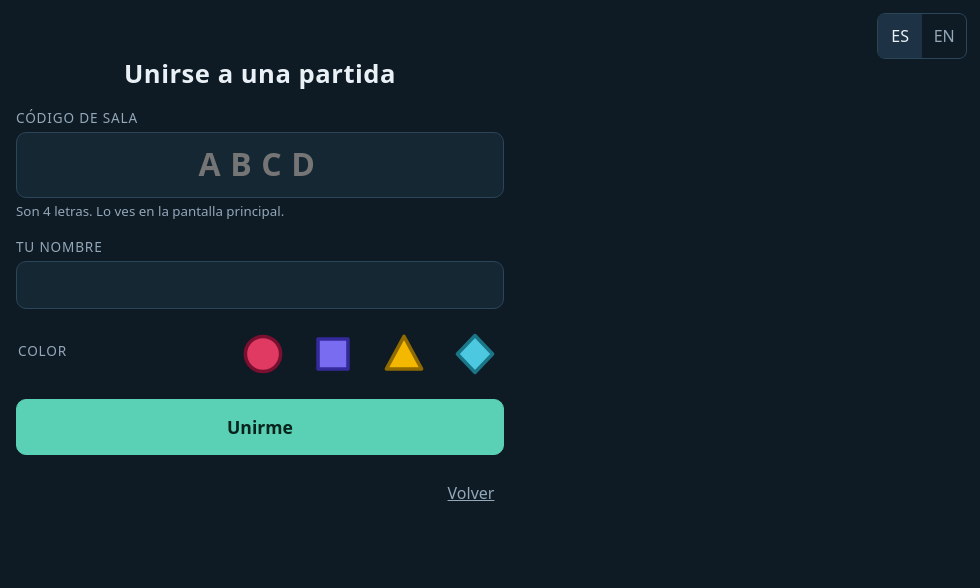
Test: unirse y sala de espera desde el móvil › valida el código y el nombre antes de enviar, y traduce los errores del servidor
The width and height of the screenshot is (980, 588).
Click the button "Unirme" at [260, 427], box top-left (16, 399), bottom-right (504, 455)
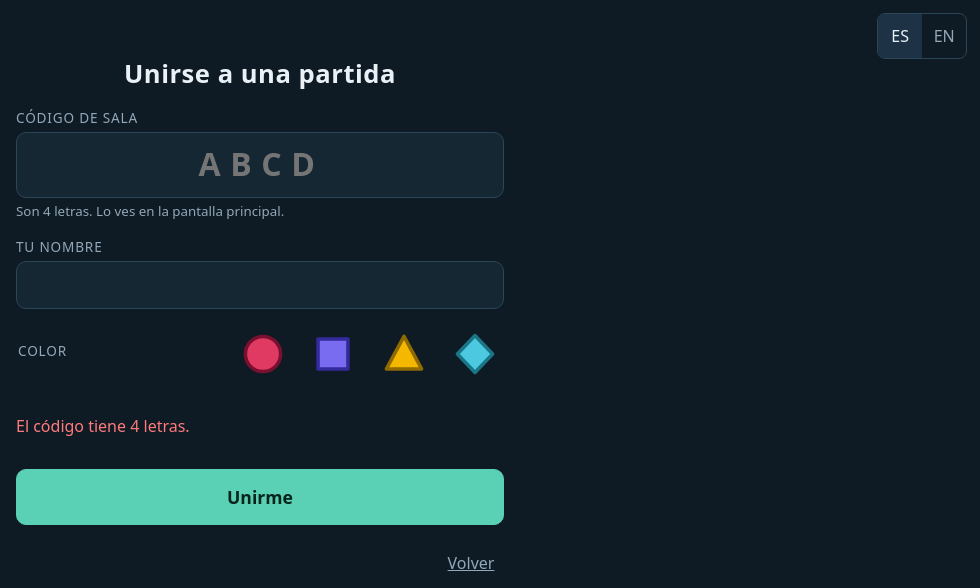
expect the message reads "El código tiene 4 letras.": met, box top-left (16, 415), bottom-right (190, 437)
Type "ab1c-d" into the field labelled "Código de sala" at [260, 165], box top-left (16, 132), bottom-right (504, 198)
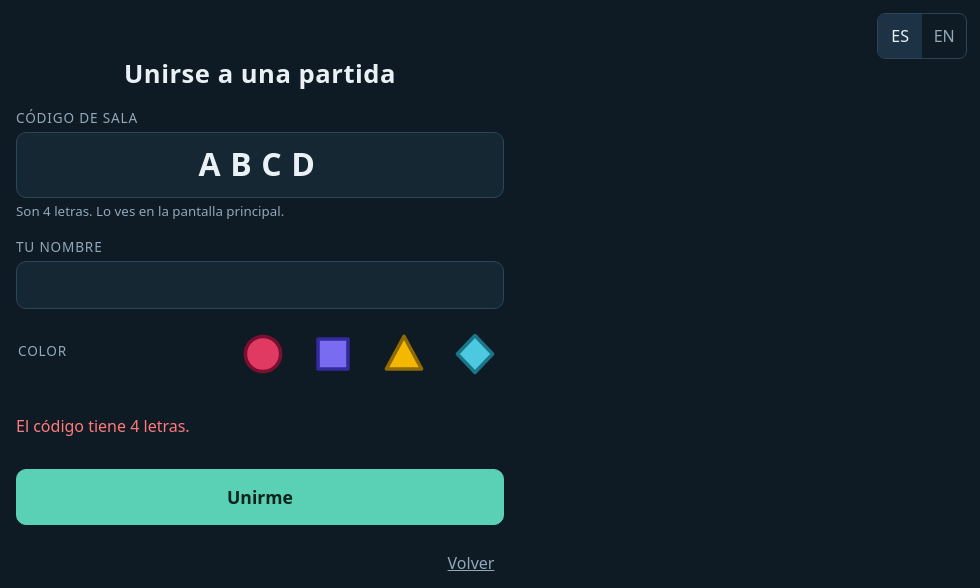
expect the field labelled "Código de sala" holds "ABCD": met, box top-left (16, 132), bottom-right (504, 198)
Click the button "Unirme" at [260, 497], box top-left (16, 469), bottom-right (504, 525)
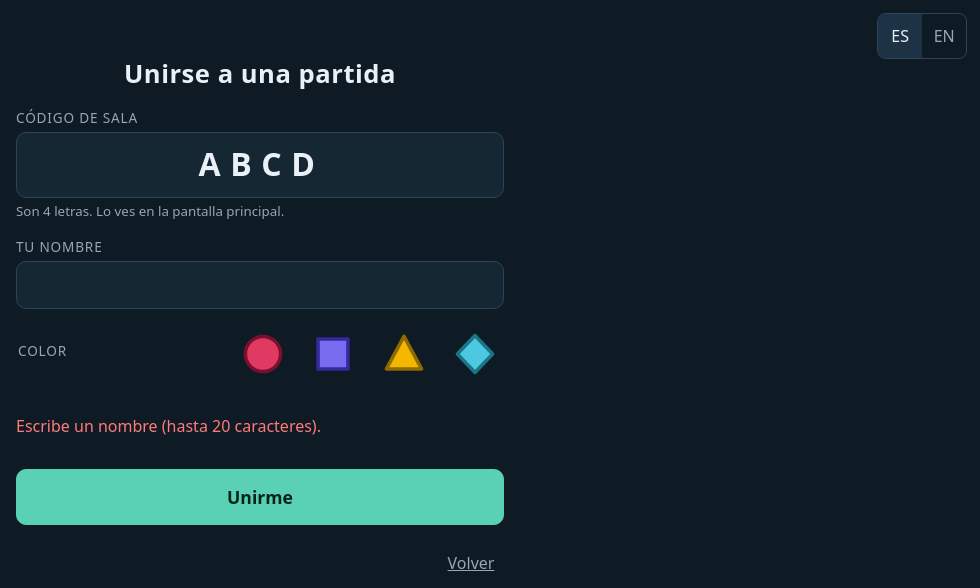
expect the message reads "Escribe un nombre (hasta 20 caracteres).": met, box top-left (16, 415), bottom-right (321, 437)
Type "Ana" into the field labelled "Tu nombre" at [260, 285], box top-left (16, 261), bottom-right (504, 309)
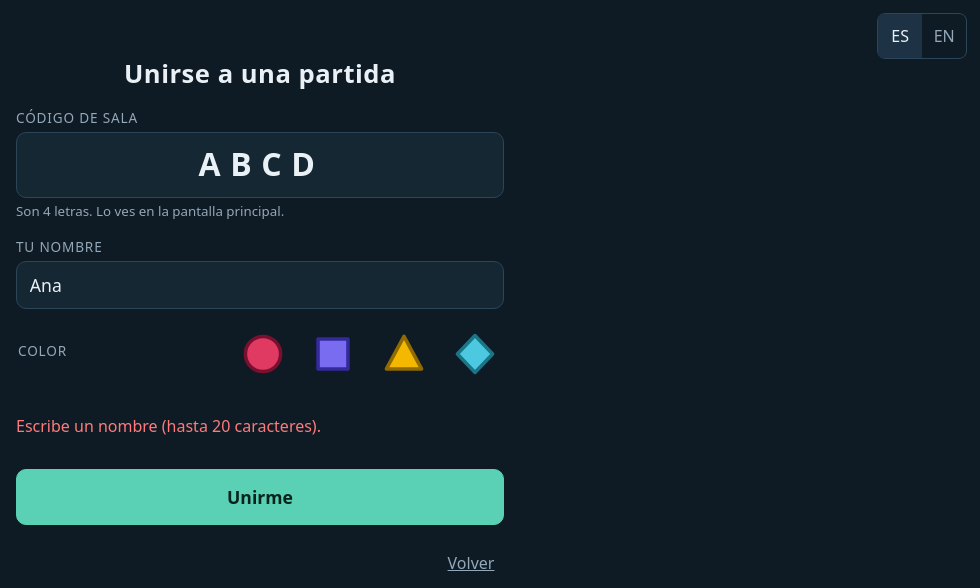
Click the button "Unirme" at [260, 497], box top-left (16, 469), bottom-right (504, 525)
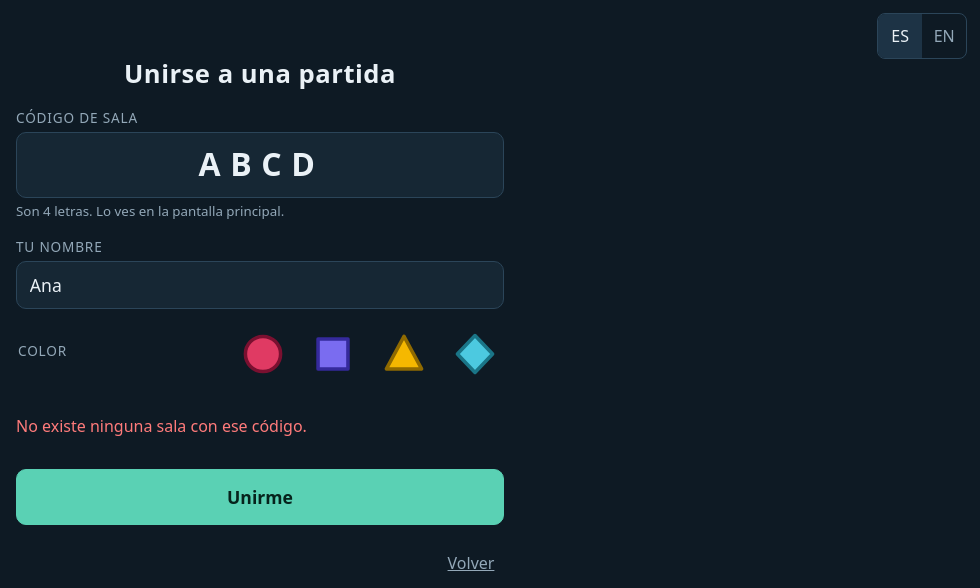
expect the message reads "No existe ninguna sala con ese código.": met, box top-left (16, 415), bottom-right (307, 437)
